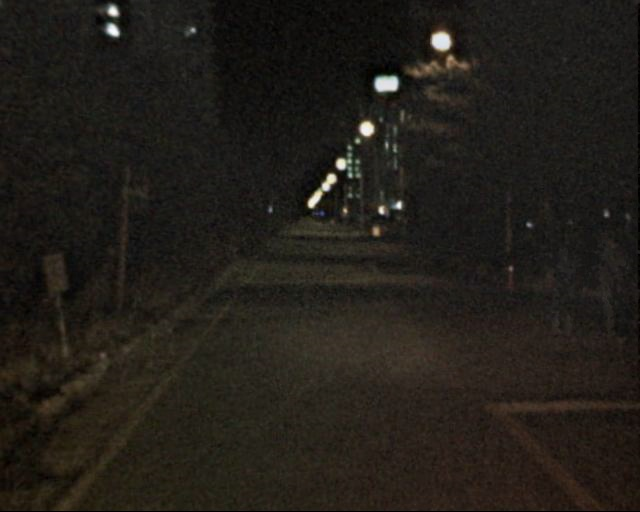person: (542, 242, 583, 343), (594, 234, 631, 338)
